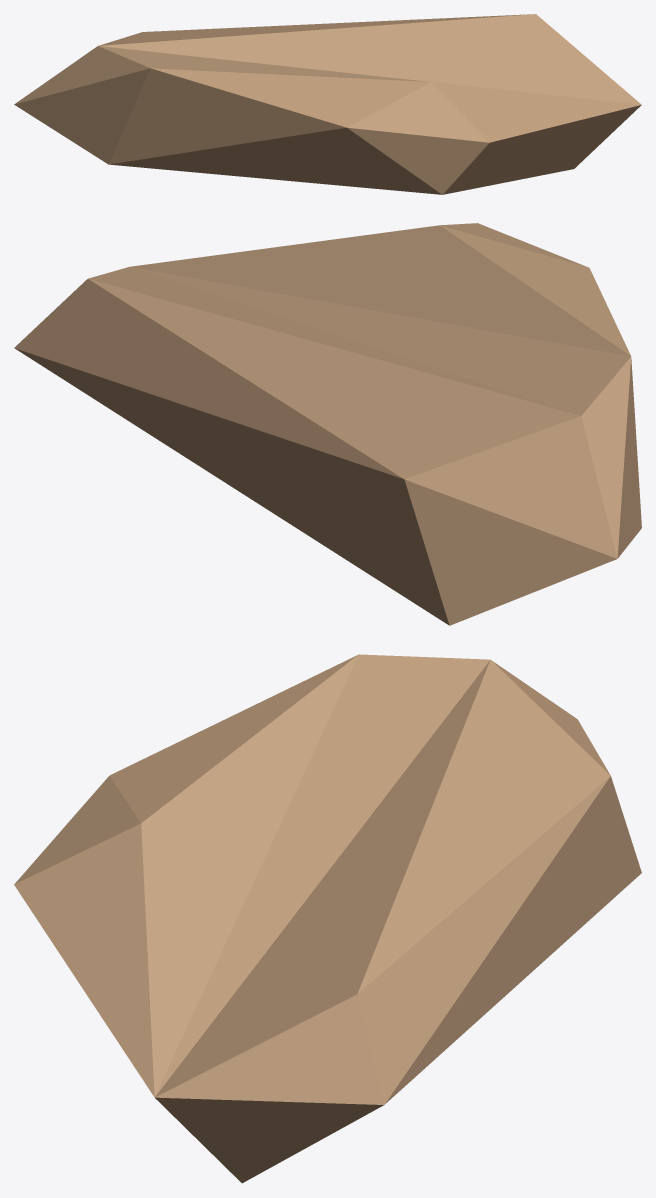
The model's file is Stone_8.fbx.
3 views of the same model, one above another, from view 1: azimuth 30°, elevation 25°; view 2: azimuth 150°, elevation 25°; view 3: azimuth 270°, elevation 25° (orthographic). The views are drawn at different scales.
Parts seen in each view (by area): view 1: Stone_8; view 2: Stone_8; view 3: Stone_8.
Boxes of the visible parts, x1=… form: Stone_8: x1=14, y1=14, x2=641, y2=194; Stone_8: x1=14, y1=223, x2=641, y2=625; Stone_8: x1=14, y1=654, x2=641, y2=1183.
Bounding box in the file's own units: 548 × 177 × 405.
